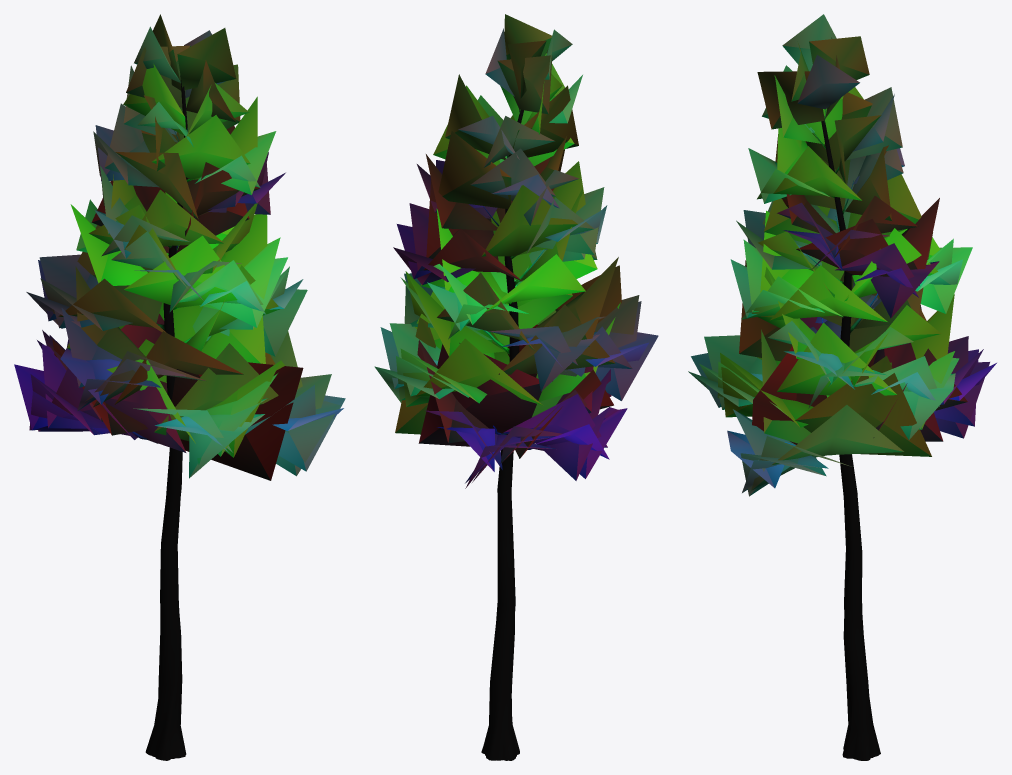
The model's file is SM_HTTree_04.FBX.
3 renders of one model, left to right at view 1: azimuth 30°, elevation 25°; view 2: azimuth 150°, elevation 25°; view 3: azimuth 270°, elevation 25°, orthographic. The views are drawn at different scales.
Parts seen in each view (by area): view 1: SM_HTTree_04_LOD0; view 2: SM_HTTree_04_LOD0; view 3: SM_HTTree_04_LOD0.
Part boxes in pixels (x1,y1,x2,y2): SM_HTTree_04_LOD0: (14,14,345,760); SM_HTTree_04_LOD0: (374,14,658,760); SM_HTTree_04_LOD0: (688,14,996,760).
Size of what is drawn, in the model's own units: 315 by 342 by 879.
